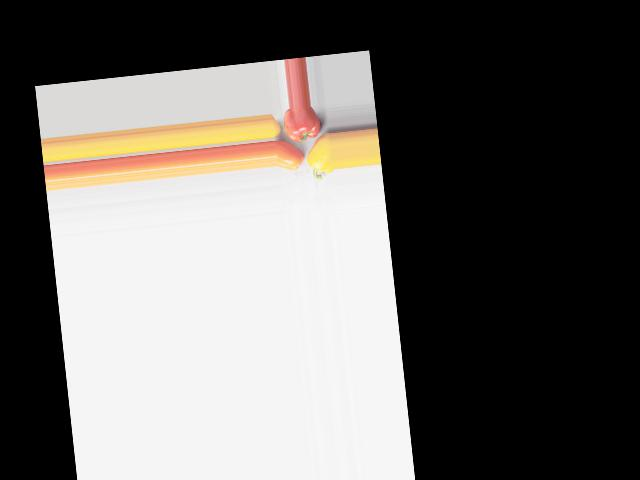bell_pepper: (283, 106, 324, 142)
